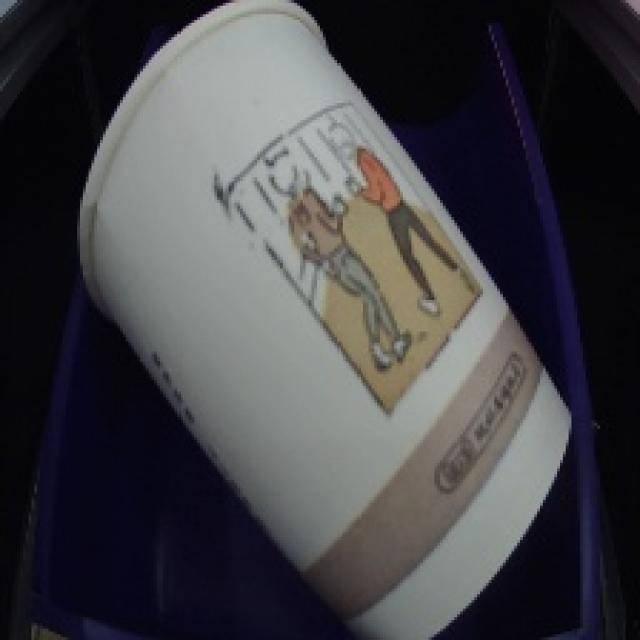cups: (63, 0, 590, 636)
